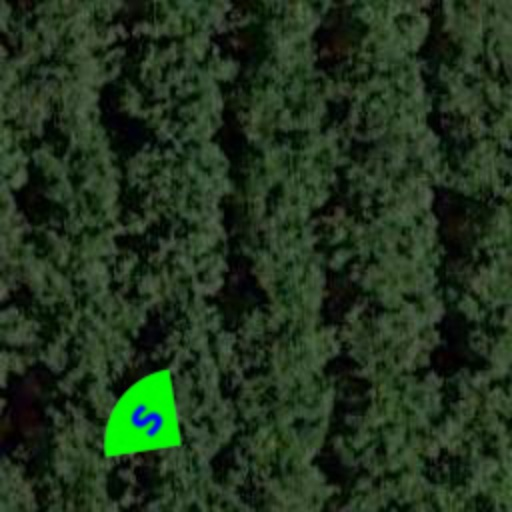quarter_circle: (72, 346, 216, 490)
